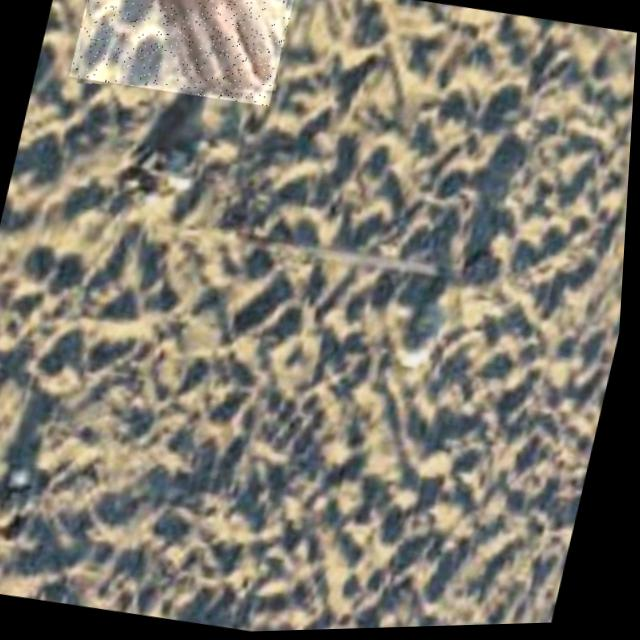Person in Rubble: (67, 0, 296, 112)
